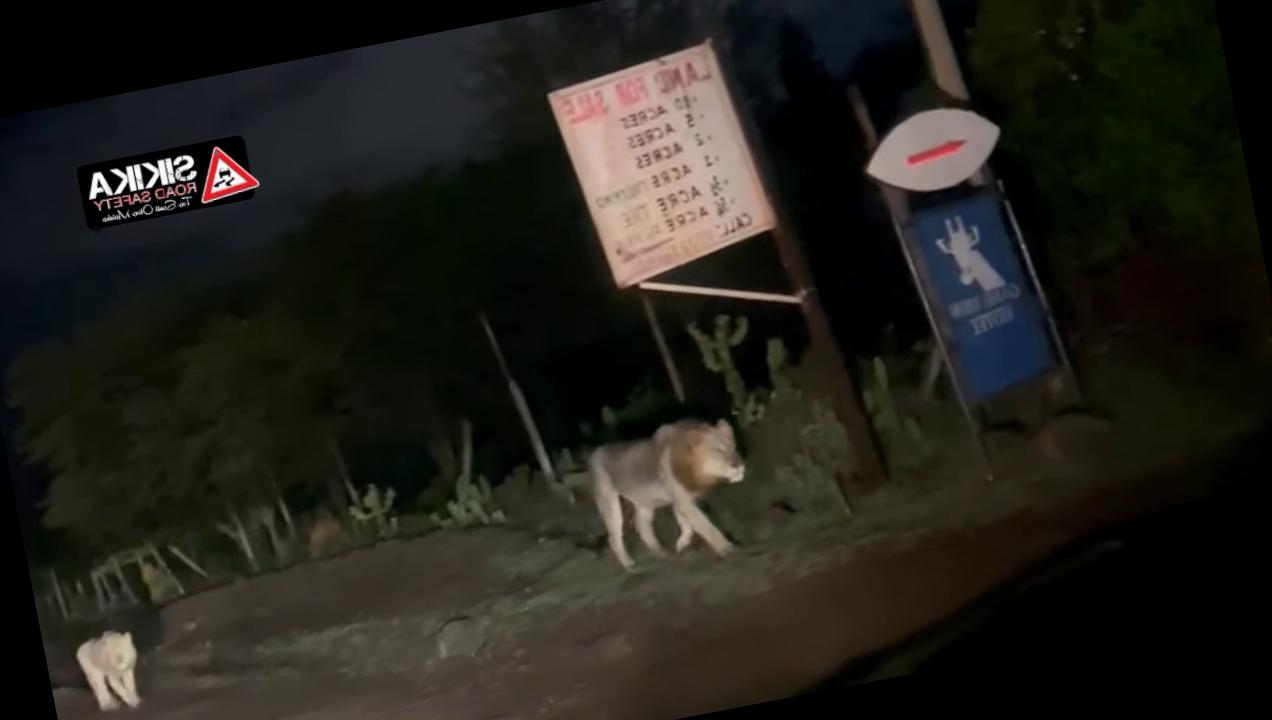lions: (566, 370, 766, 590)
